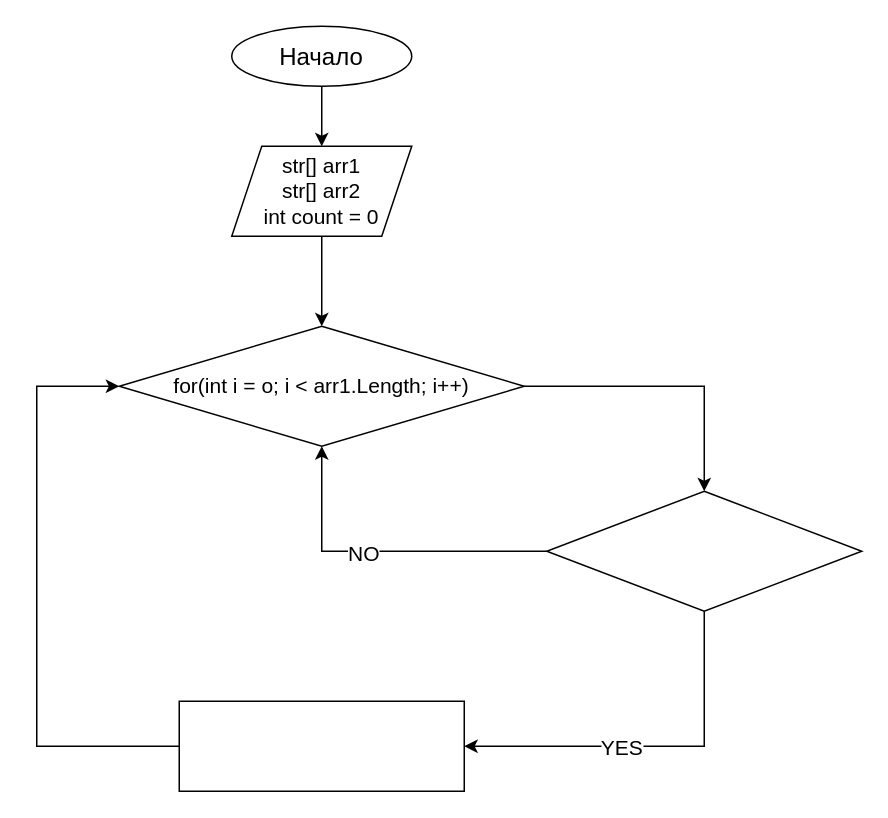
This 888x818 diagram has some shape labels left out. Each missing label, with the box of its shape:
arr2[count] = arr[i]; count++;: (178, 700, 464, 791)
if(arr1[i].Length <= 3: (545, 490, 862, 611)
